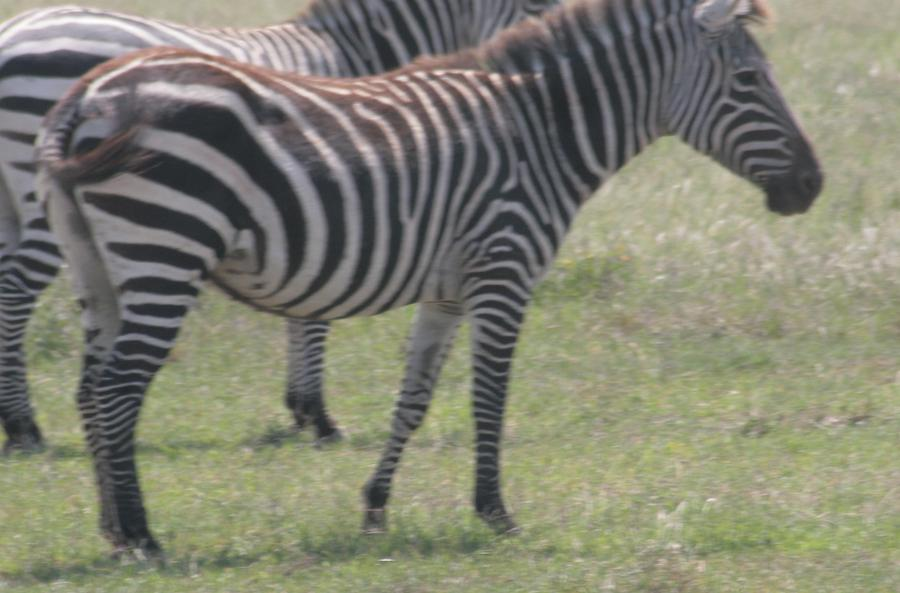zebra_plains: (86, 45, 570, 316)
